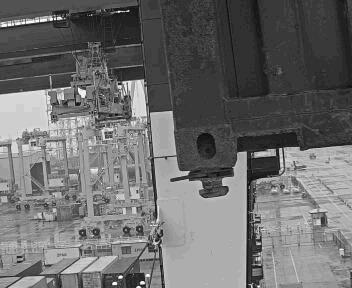twist_lock_1: (184, 165, 248, 204)
